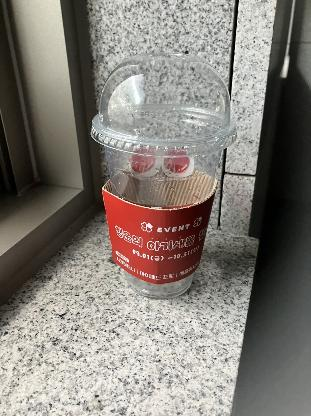Plastic Cup: (90, 51, 238, 301), (87, 52, 241, 158)
